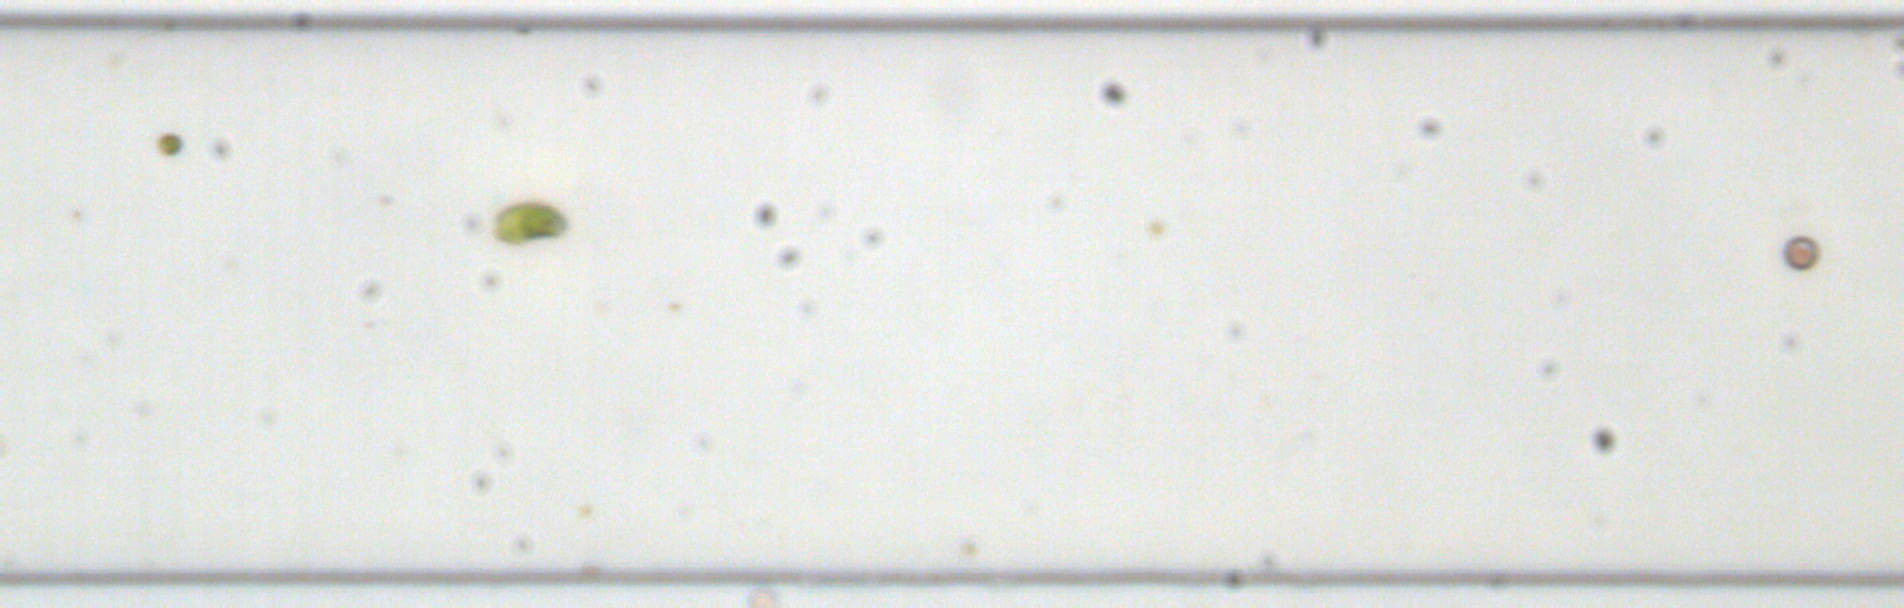Chlorella: (152, 130, 187, 158), (1145, 216, 1164, 237)
Platymonas: (488, 195, 571, 248)
Porphyridium: (1778, 232, 1823, 271)
